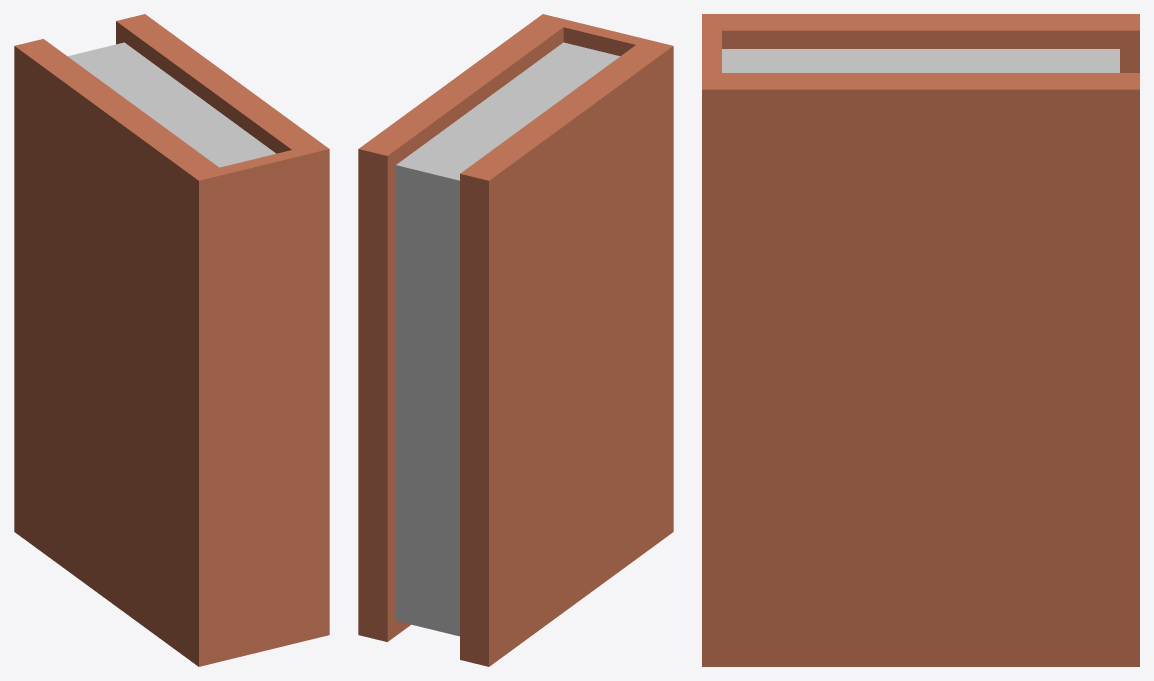
Rendered from SkinBook.fbx.
3 views of the same model, side by side, from view 1: azimuth 30°, elevation 25°; view 2: azimuth 150°, elevation 25°; view 3: azimuth 270°, elevation 25° (orthographic). The views are drawn at different scales.
Parts seen in each view (by area): view 1: SkinBook; view 2: SkinBook; view 3: SkinBook.
Boxes of the visible parts, x1,y1,x2,y2 form: SkinBook: [14, 14, 329, 666]; SkinBook: [358, 14, 673, 666]; SkinBook: [702, 14, 1139, 666].
Bounding box in the file's own units: 9 × 32 × 22.
1 material, 1 textured.
